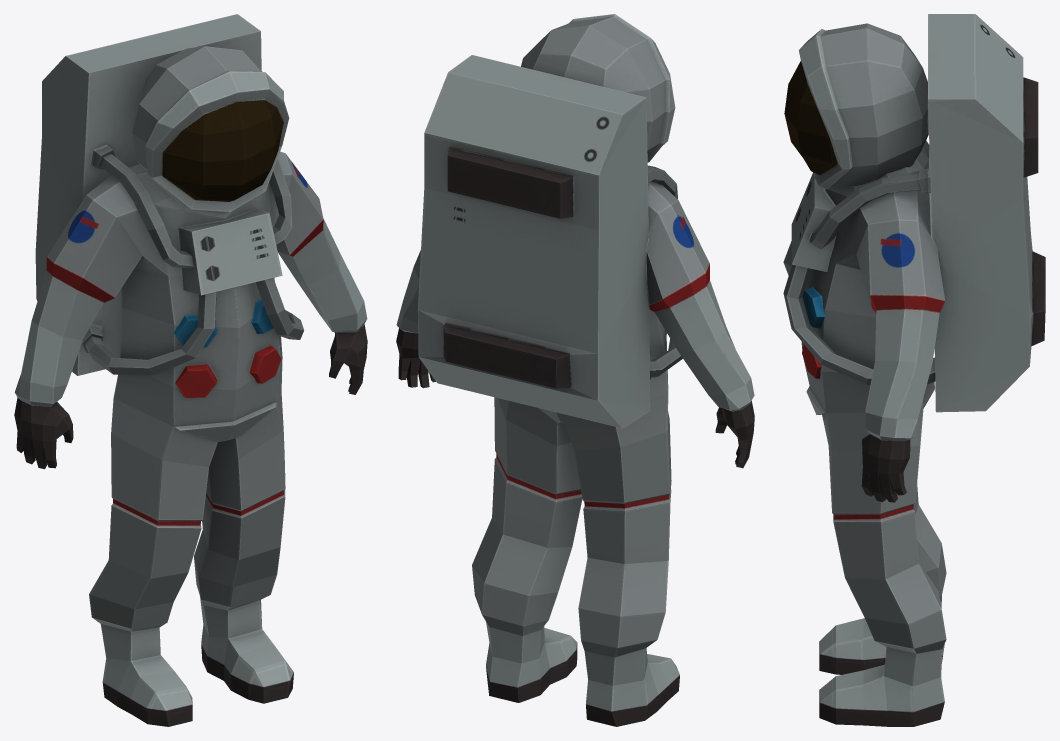
3 views of the same model, side by side, from view 1: azimuth 30°, elevation 25°; view 2: azimuth 150°, elevation 25°; view 3: azimuth 270°, elevation 25° (orthographic).
Visible parts, largest first — view 1: node-0; view 2: node-0; view 3: node-0.
Part boxes in pixels (x1,y1,x2,y2): node-0: [14, 14, 367, 726]; node-0: [396, 14, 754, 726]; node-0: [783, 14, 1045, 726].
Bounding box in the file's own units: 1.12 × 2.01 × 0.7235.
Materials: 1 (1 with a texture image).
